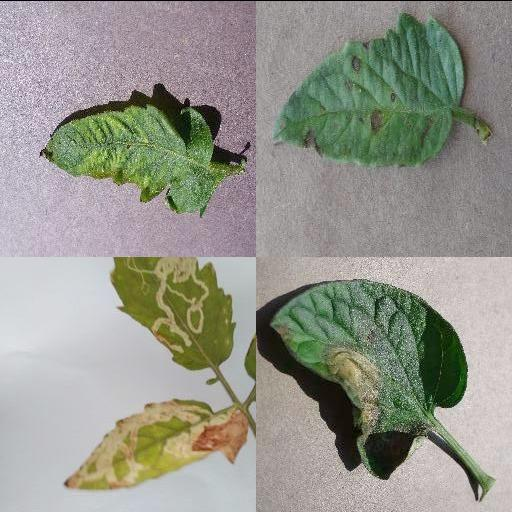Early Blight: (272, 10, 468, 166)
Late Blight: (267, 277, 469, 481)
Leaf Miner: (61, 396, 251, 490), (110, 256, 236, 370)
Mosaic Virus: (38, 102, 218, 216)
